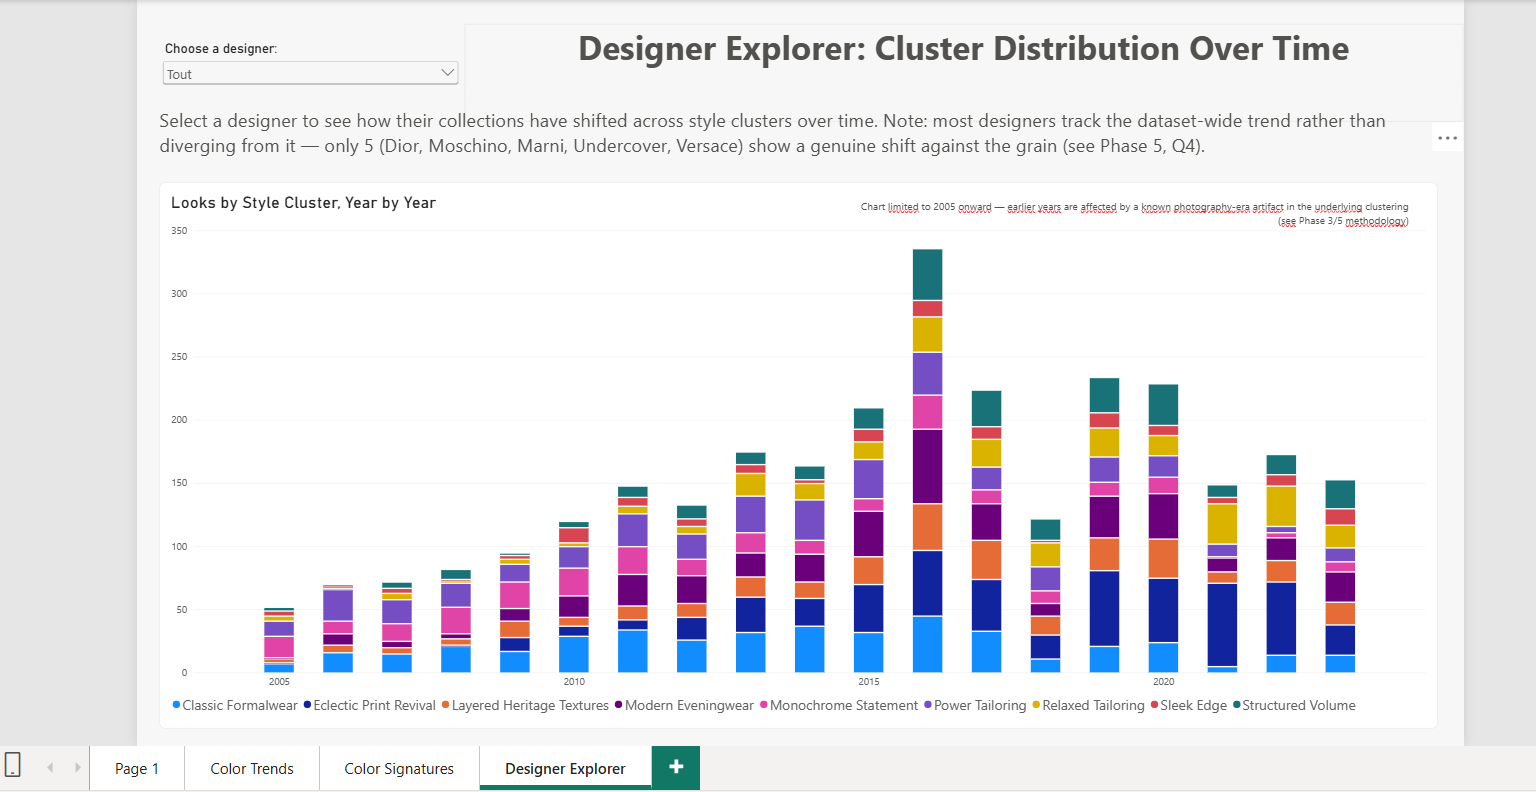

This screenshot's page, from the dashboard's own definition file:
{"tool":"powerbi","page":{"name":"Designer Explorer","canvas":[1920,1080],"ordinal":3},"visuals":[{"type":"slicer","fields":{"Values":["fact_looks.designer"]},"box":[32.5,60,437.5,112.5],"z":0},{"type":"columnChart","title":"Looks by Style Cluster, Year by Year","fields":{"Category":["fact_looks.year"],"Series":["fact_looks.business_name"],"Y":["fact_looks.DesignerLookCount"]},"box":[32.5,265,1850,790],"z":1000},{"type":"textbox","box":[475,35,1445,140],"z":1001},{"type":"textbox","box":[32.5,155,1850,110],"z":1002},{"type":"textbox","box":[1036,288,806,312],"z":1003}]}

Visuals, with their boxes on the page's 1920x1080 design canvas (x1, y1, x2, y2). These are canvas units, not pixel positions in the 1536x792 screenshot, which may show the page scaled, cropped or inside an application window:
slicer - fact_looks.designer: bbox=(32, 60, 470, 172)
"Looks by Style Cluster, Year by Year" columnChart: bbox=(32, 265, 1882, 1055)
textbox: bbox=(475, 35, 1920, 175)
textbox: bbox=(32, 155, 1882, 265)
textbox: bbox=(1036, 288, 1842, 600)
